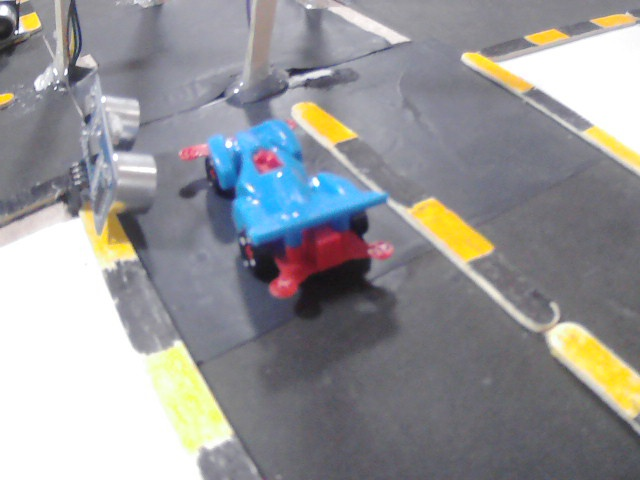car: (179, 114, 399, 301)
uno_breadboard: (69, 85, 151, 231)
